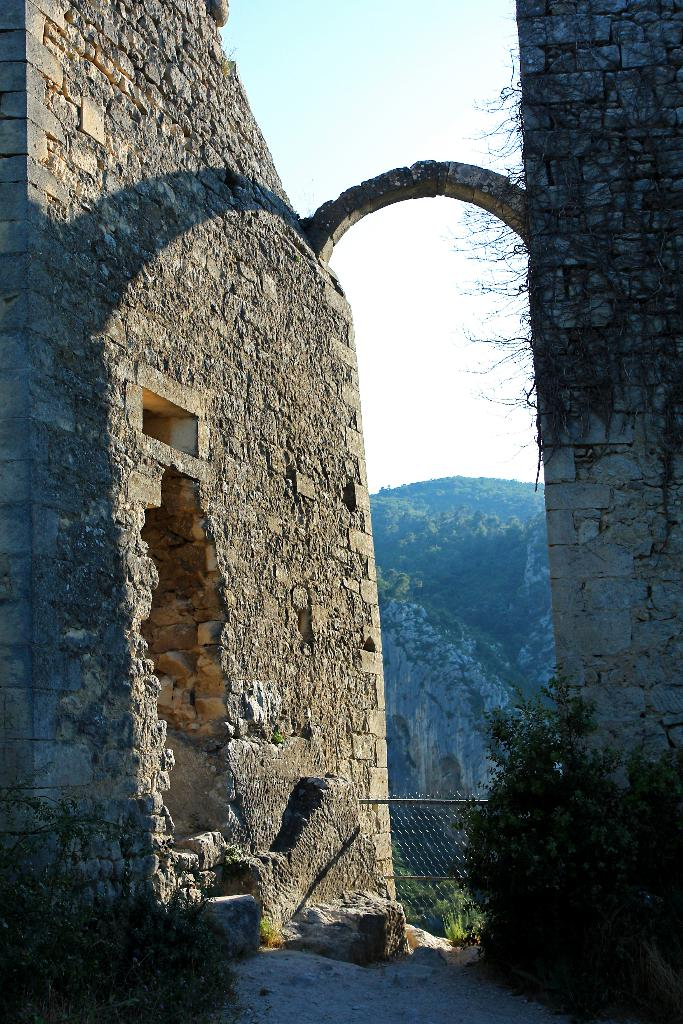Tree: (447, 661, 652, 1006)
